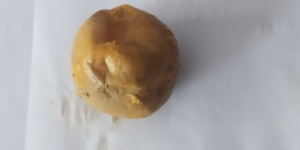BAD: (73, 4, 178, 119)
